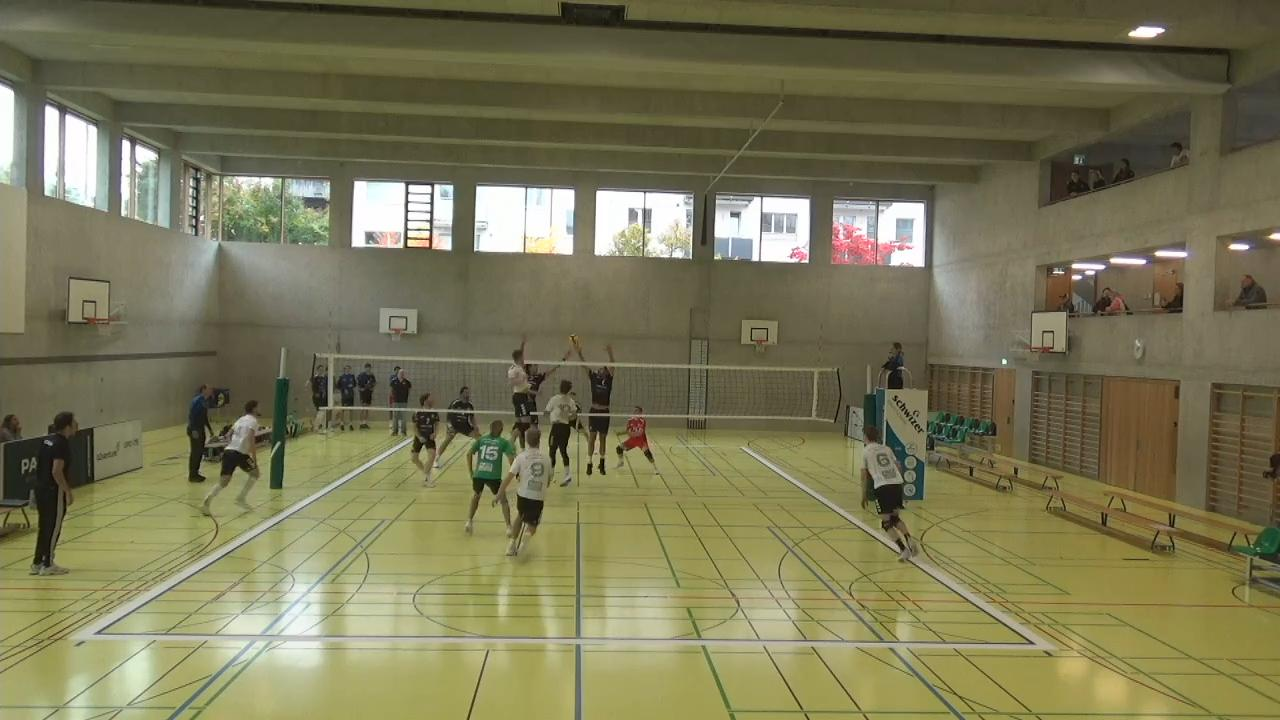Attack: (497, 338, 538, 441)
Block: (582, 337, 618, 481), (521, 332, 573, 421)
Player: (196, 398, 268, 519), (858, 429, 919, 558), (505, 420, 553, 557), (462, 417, 516, 535), (546, 379, 583, 490), (409, 392, 445, 486), (442, 385, 479, 469), (613, 405, 654, 468), (561, 390, 591, 443)
ball: (566, 334, 582, 349)
